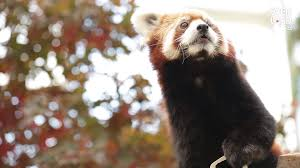redPanda: (122, 6, 280, 168)
